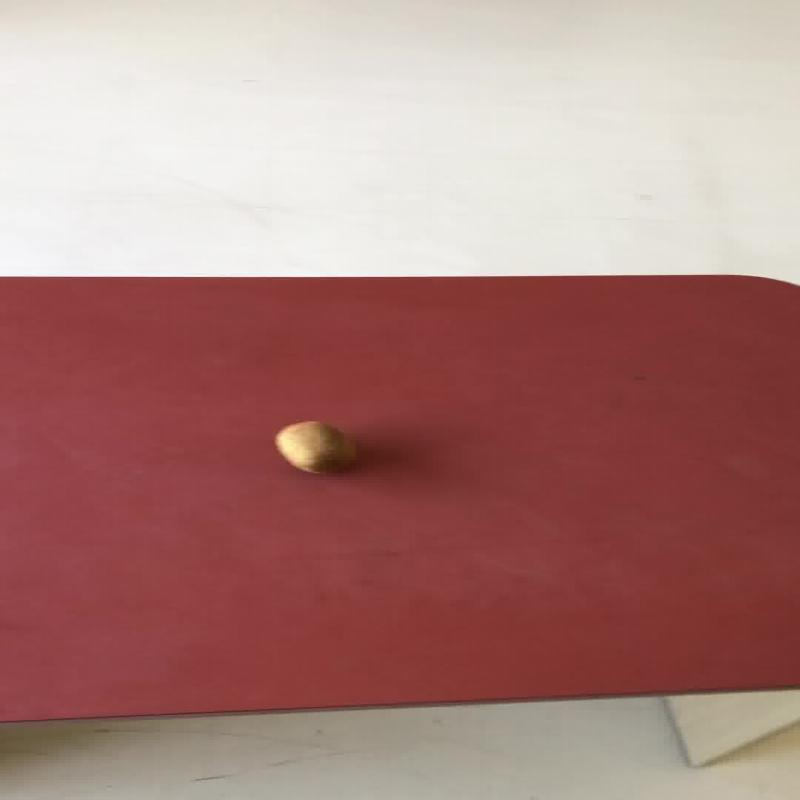kiwi: (272, 419, 356, 473)
